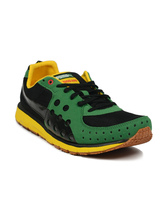shoes: (14, 59, 158, 160)
